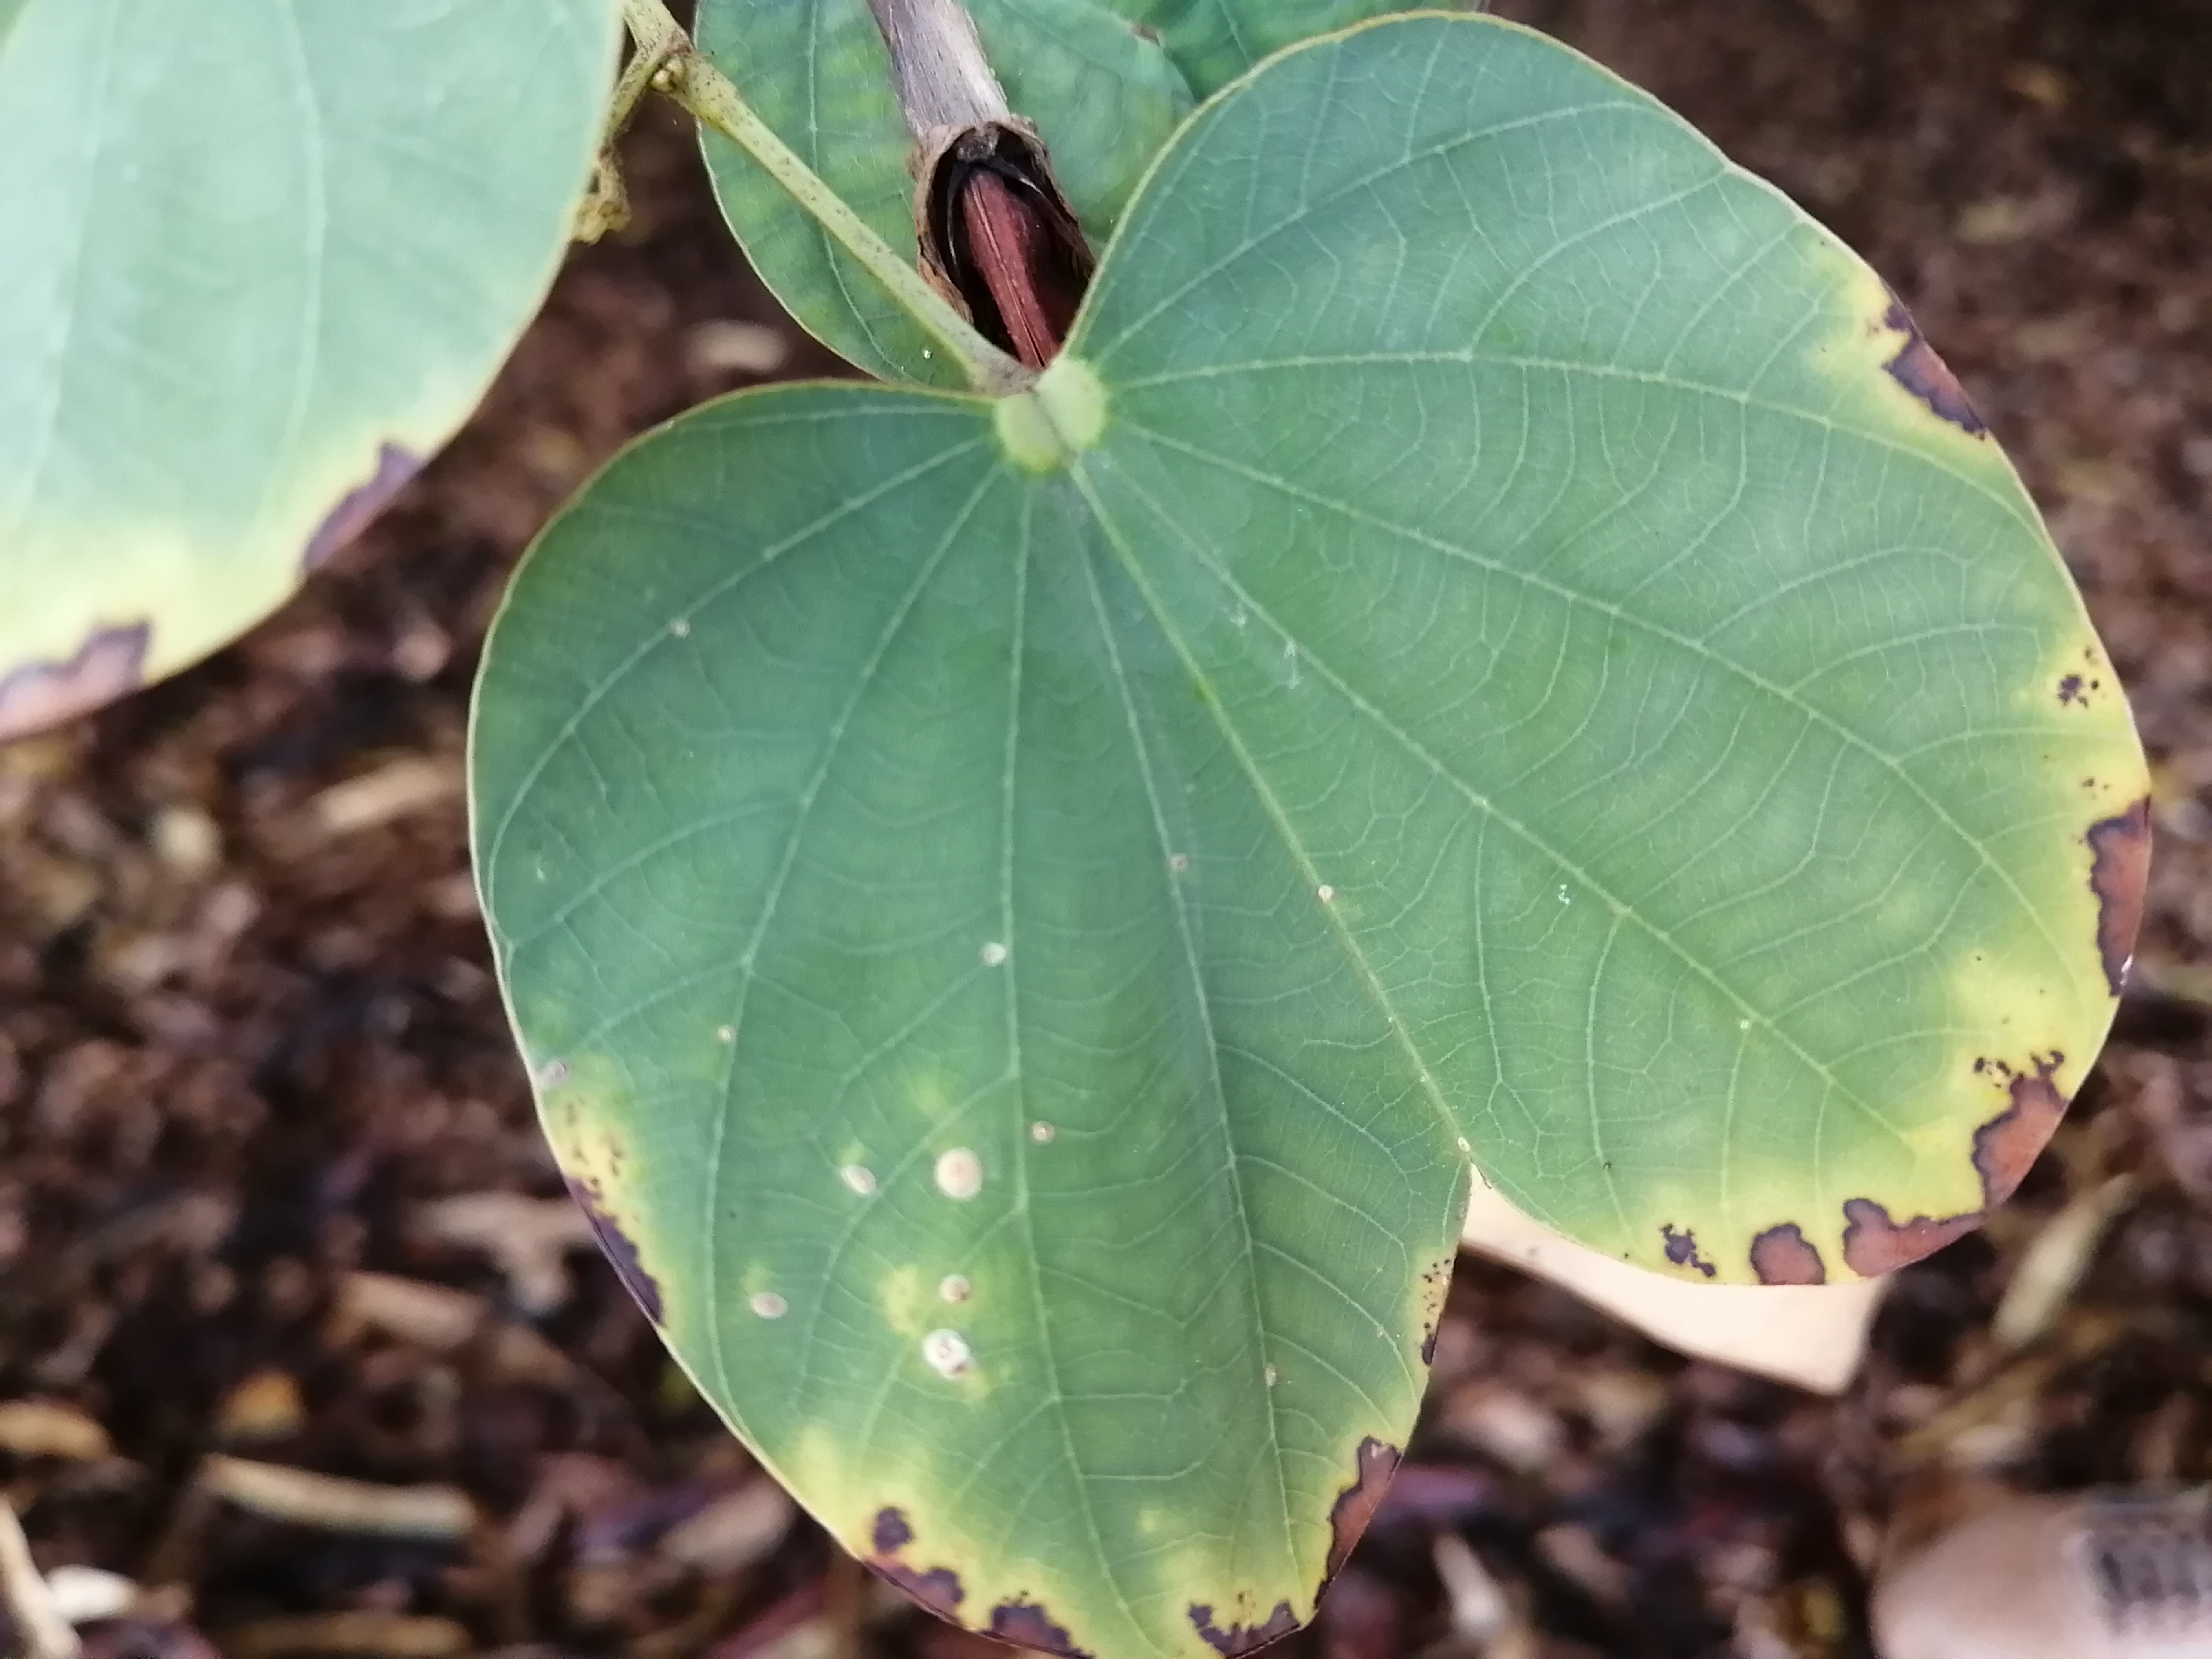nothealthy: (336, 3, 2209, 1645)
